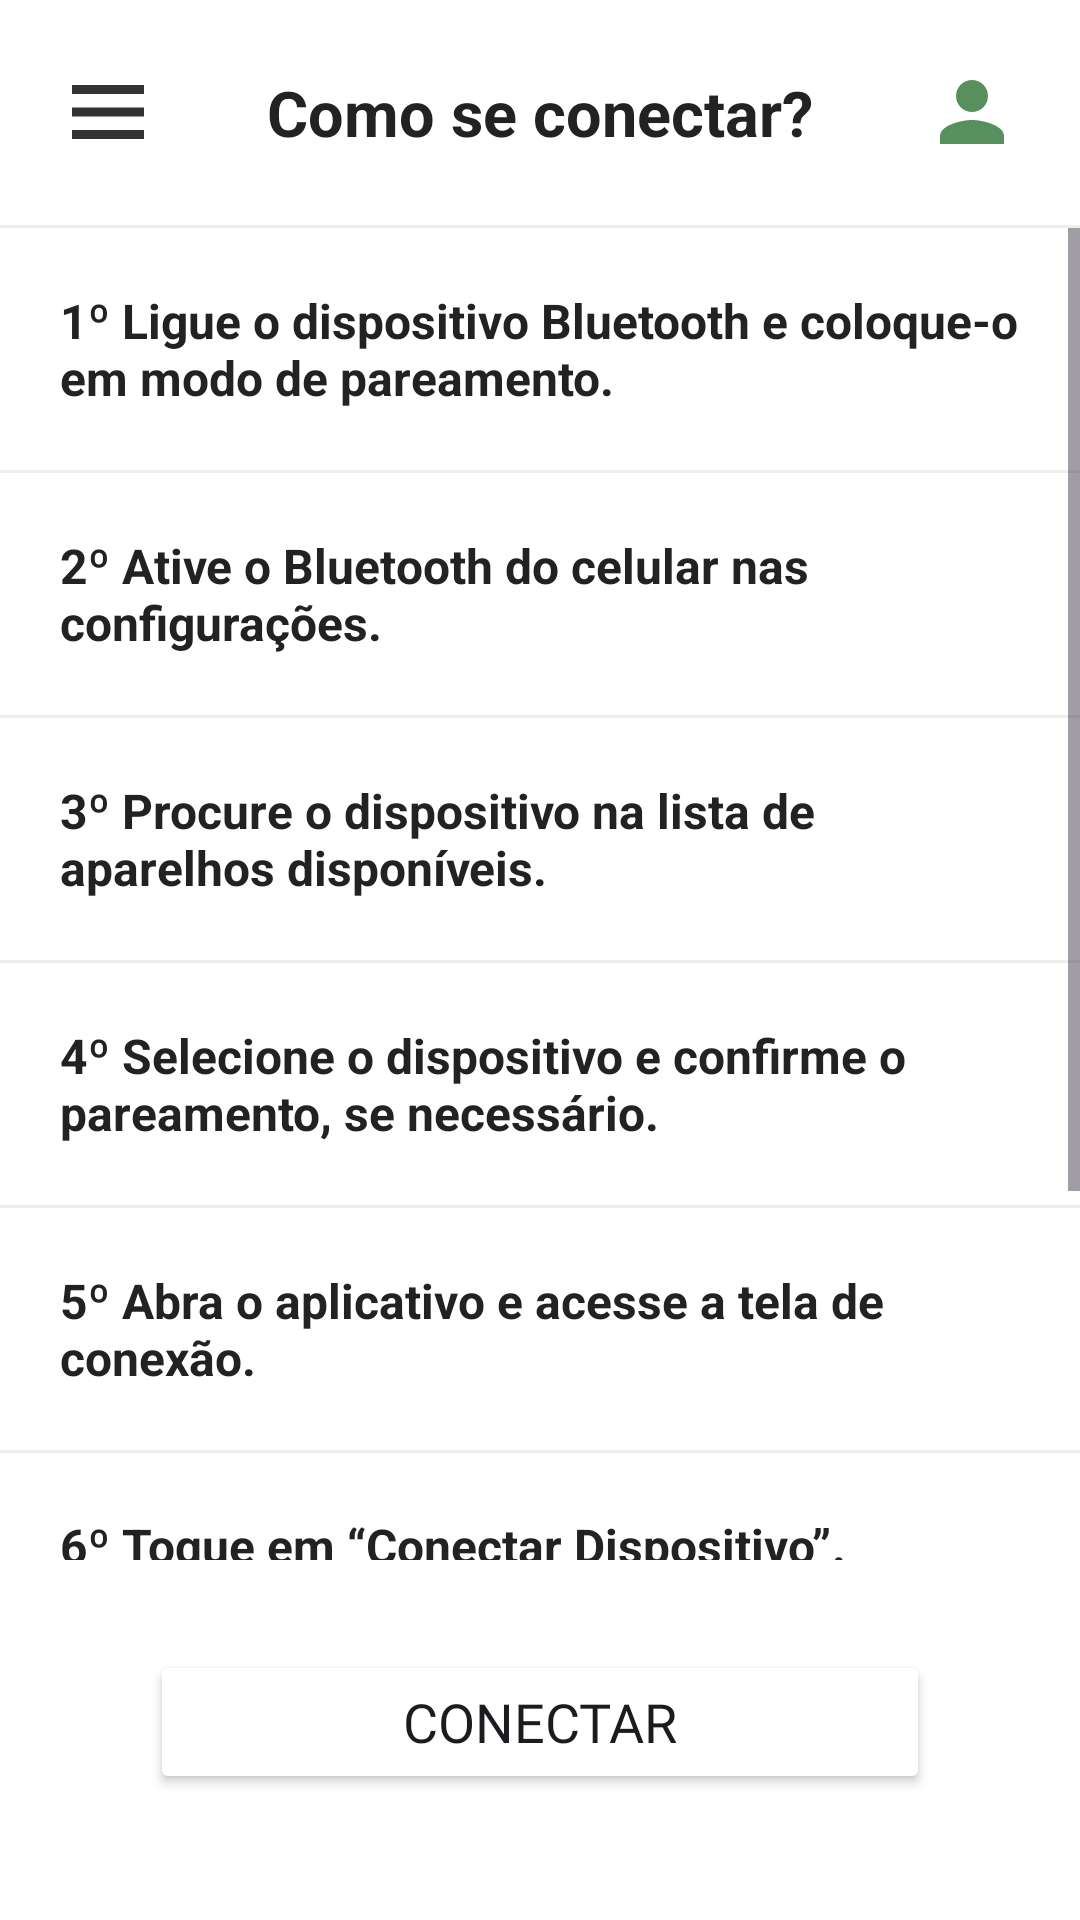

Icons on this 1080 × 1920 Android screen, each with the point to tap as point (x, y):
Abrir menu: point (108, 112)
Abrir perfil: point (972, 112)
